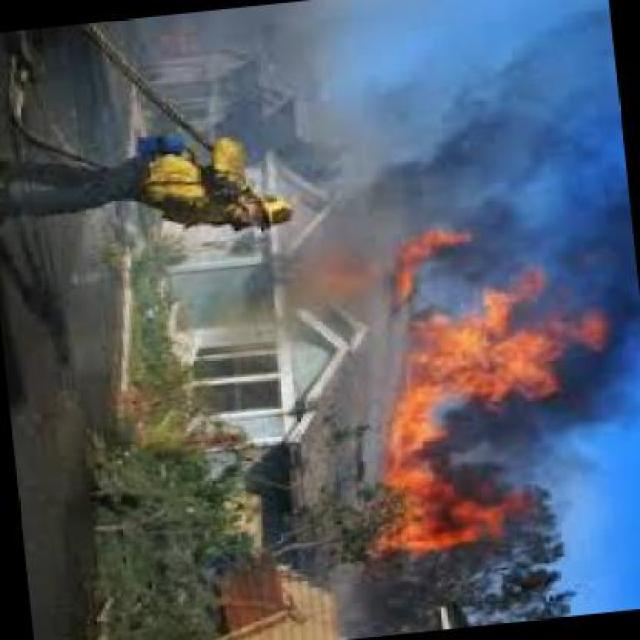Fire: (382, 218, 601, 565)
Smoke: (367, 21, 626, 231), (454, 406, 590, 494), (486, 208, 634, 266), (571, 358, 640, 442), (558, 262, 640, 311)
